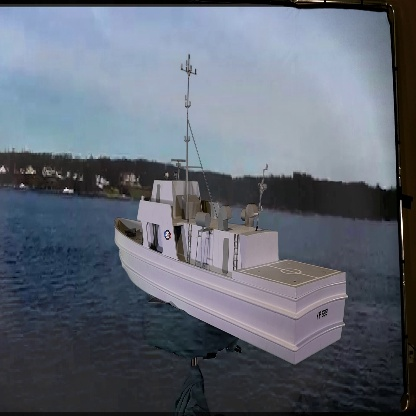YP689: (115, 58, 349, 368)
